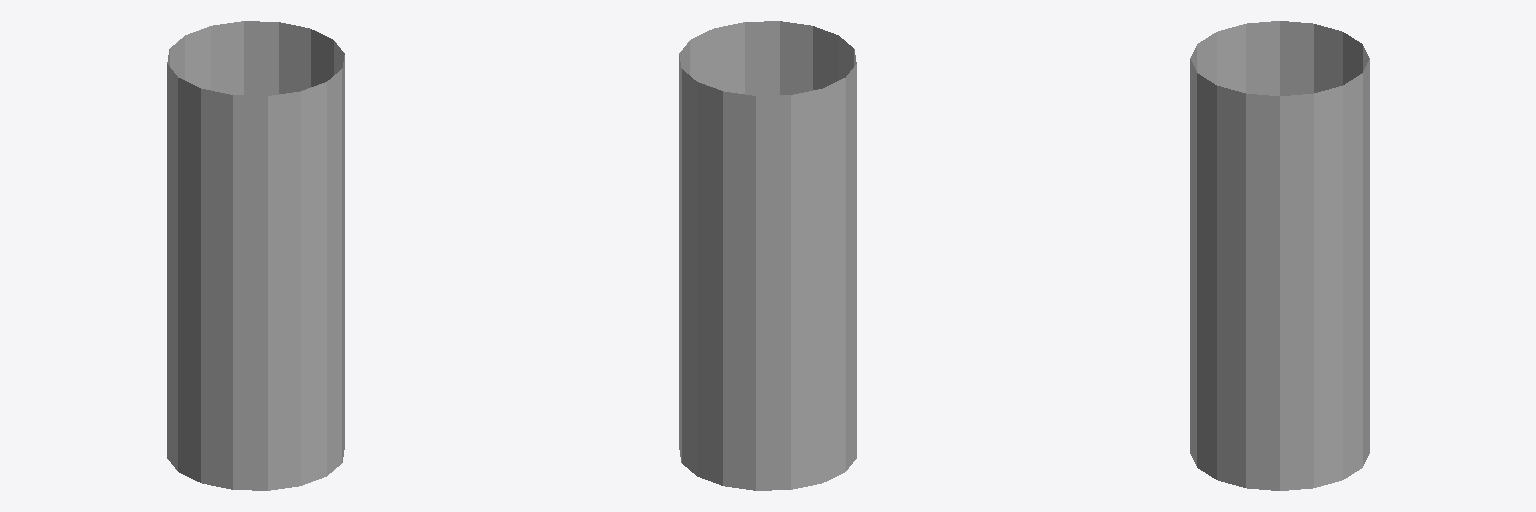
Rendered from pillar.obj.
3 renders of one model, left to right at view 1: azimuth 30°, elevation 25°; view 2: azimuth 150°, elevation 25°; view 3: azimuth 270°, elevation 25°, orthographic.
Parts seen in each view (by area): view 1: Cylinder; view 2: Cylinder; view 3: Cylinder.
Part boxes in pixels (x1,y1,x2,y2): Cylinder: (167,21,344,490); Cylinder: (679,21,856,490); Cylinder: (1190,21,1369,490).
Bounding box in the file's own units: 2 × 4.87 × 2.